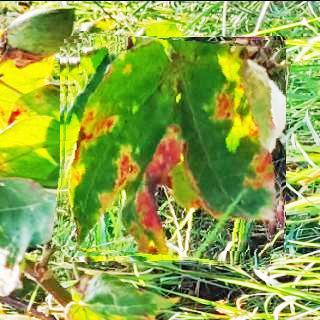blight: (57, 35, 286, 264)
